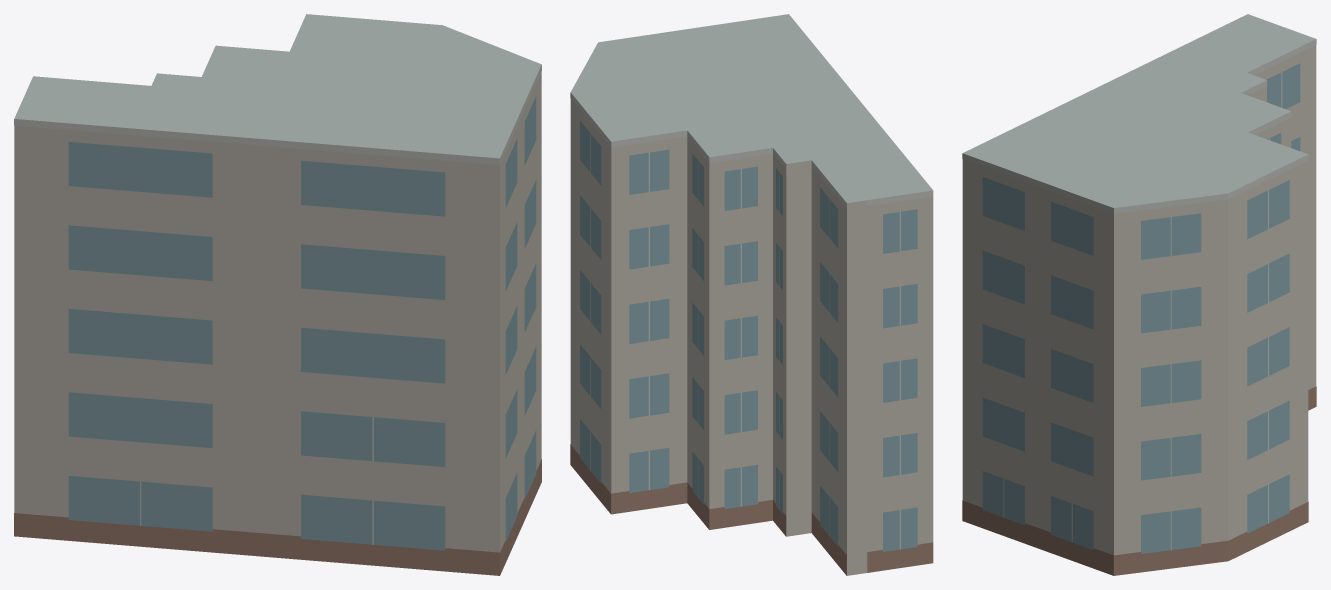
Rendered from survey-upis-32846778.glb.
The picture shows the model from 3 angles, left to right: view 1: azimuth 30°, elevation 25°; view 2: azimuth 150°, elevation 25°; view 3: azimuth 270°, elevation 25°; orthographic projection. The views are drawn at different scales.
Parts seen in each view (by area): view 1: survey-upis-32846778.tmp; view 2: survey-upis-32846778.tmp; view 3: survey-upis-32846778.tmp.
Part boxes in pixels (x1,y1,x2,y2): survey-upis-32846778.tmp: (14,14,541,575); survey-upis-32846778.tmp: (570,14,933,575); survey-upis-32846778.tmp: (962,14,1316,575).
Bounding box in the file's own units: 17.27 × 15.25 × 13.31.
